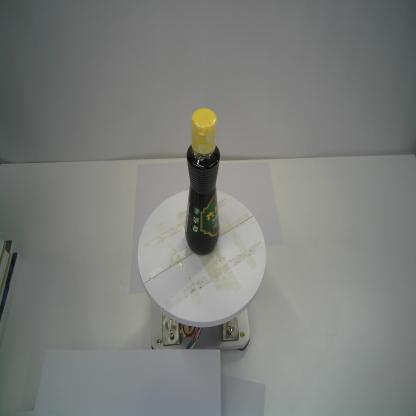Seasoner: (184, 107, 221, 256)
